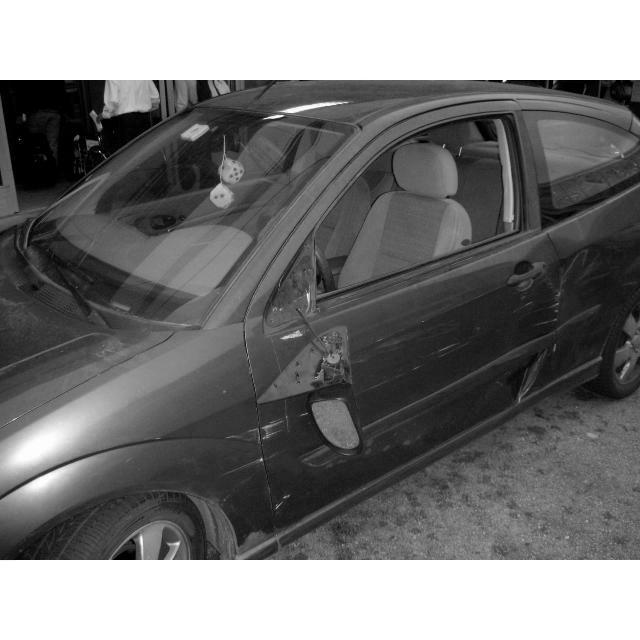doorouter-dent: (436, 276, 553, 448)
